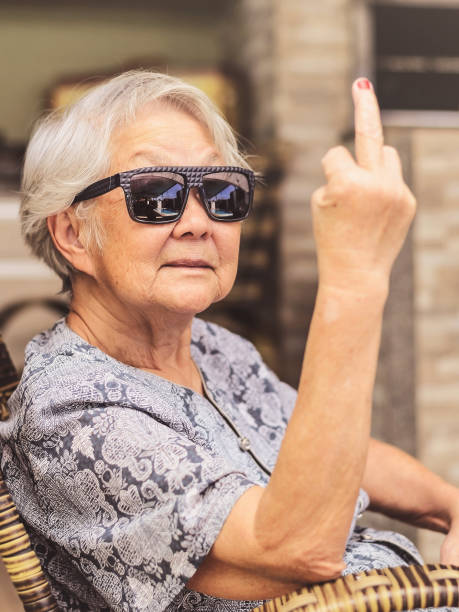insulting_gesture: (312, 74, 417, 277)
